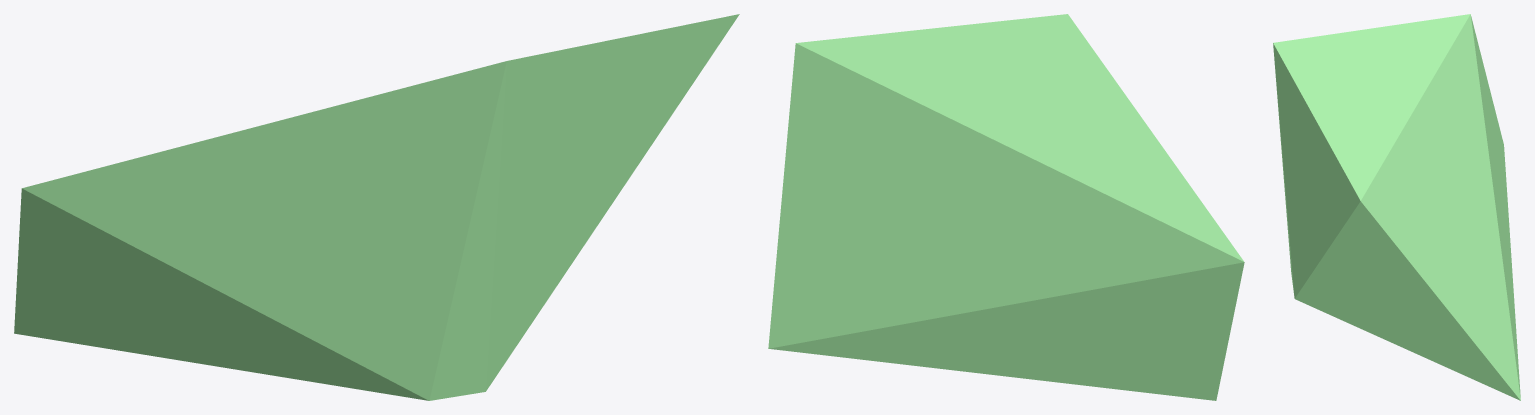
Rendered from UMIRobot_UMIRobot_link_3_convex_coll_12.dae.
3 renders of one model, left to right at view 1: azimuth 30°, elevation 25°; view 2: azimuth 150°, elevation 25°; view 3: azimuth 270°, elevation 25°, orthographic. The views are drawn at different scales.
Visible parts, largest first — view 1: node; view 2: node; view 3: node.
Boxes of the visible parts, bbox=[...] form: node: bbox=[14, 14, 739, 400]; node: bbox=[768, 14, 1244, 400]; node: bbox=[1273, 14, 1520, 400].
Bounding box in the file's own units: 0.0192 × 0.0103 × 0.00837.
